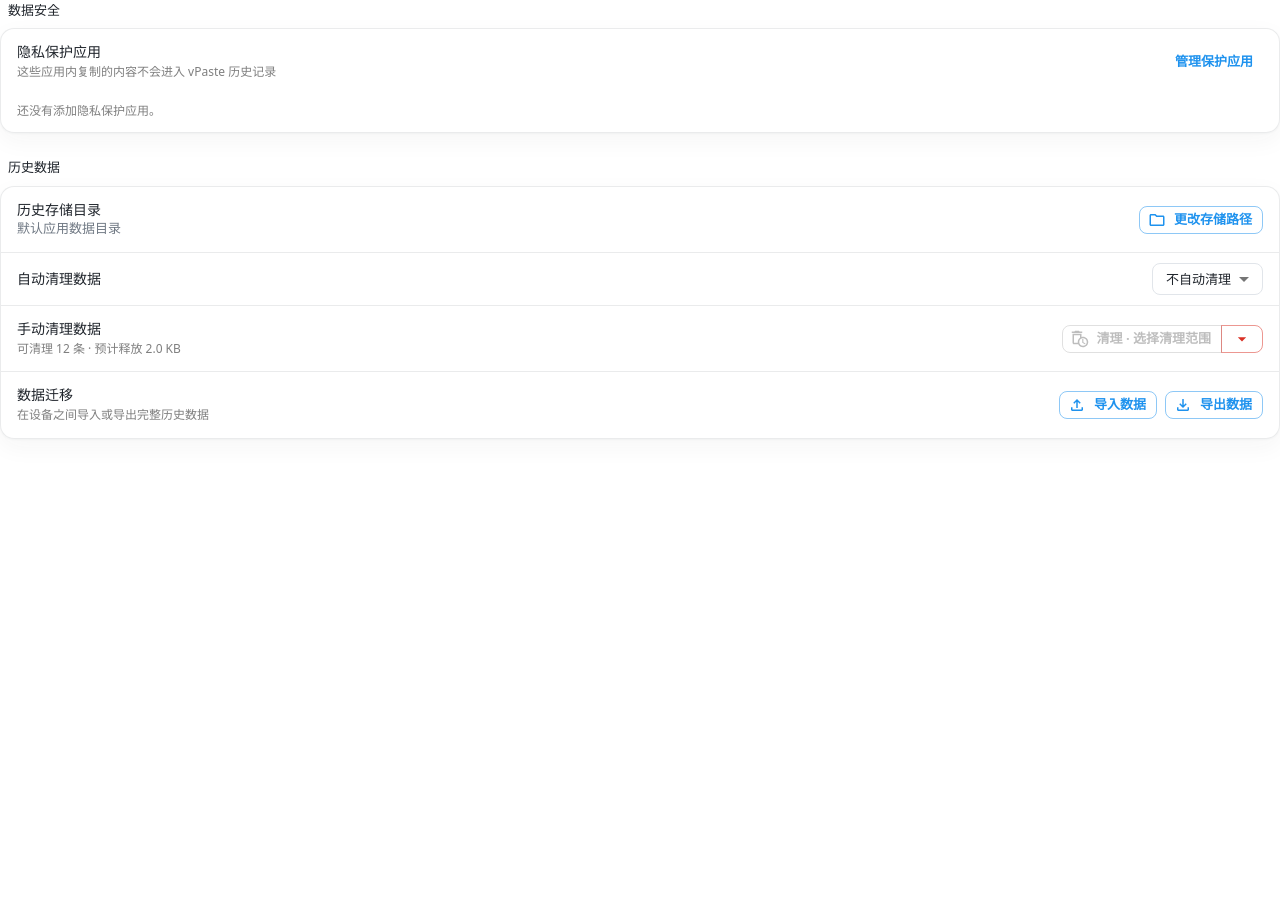
Data settings actions › shows cleanup scope, count, protection, and warning before deleting (Chinese)
Click the button named "选择清理范围". click: (1242,339)
box: [1221,325,1263,353]
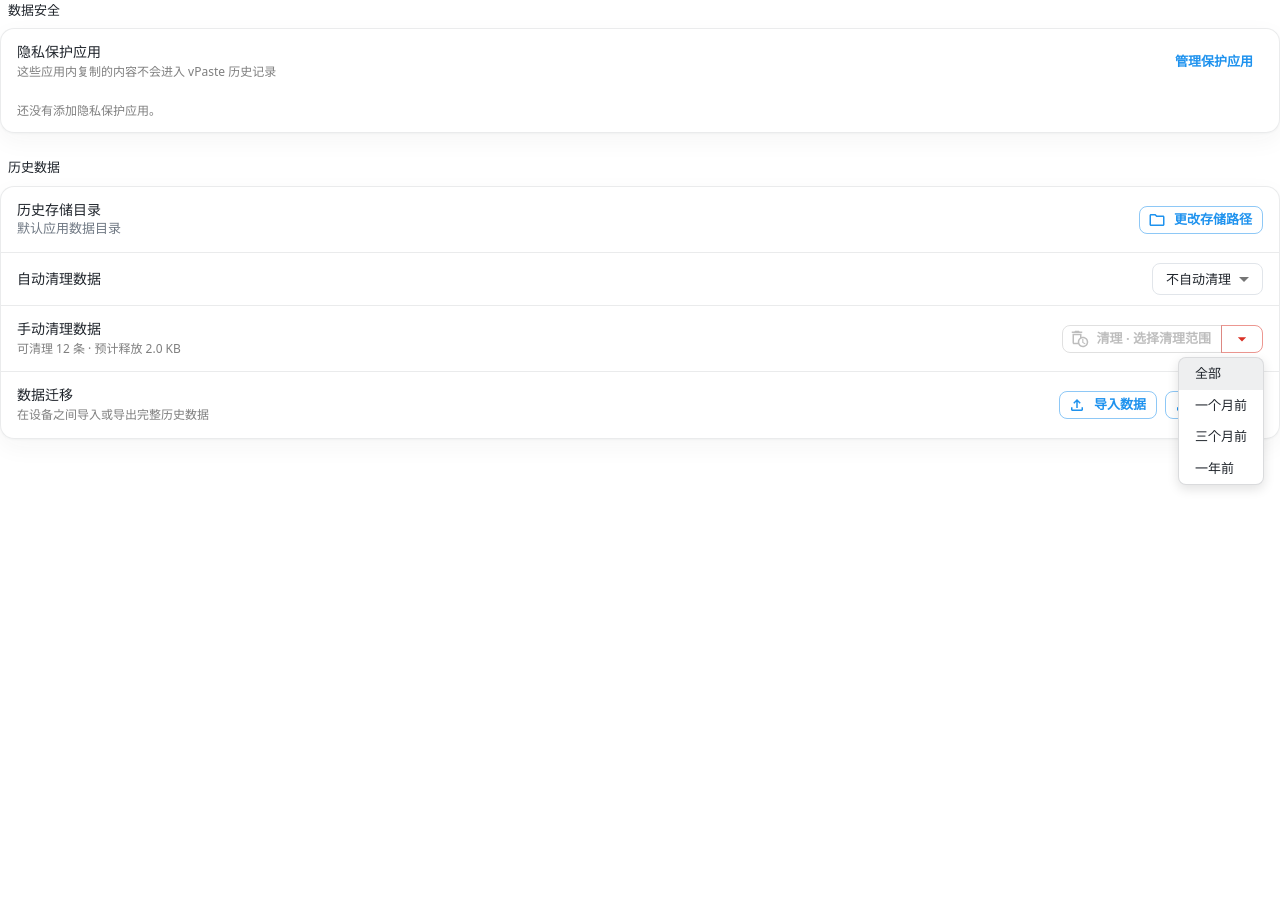
Click the menu item "全部". click: (1221,374)
box: [1179,358,1263,390]
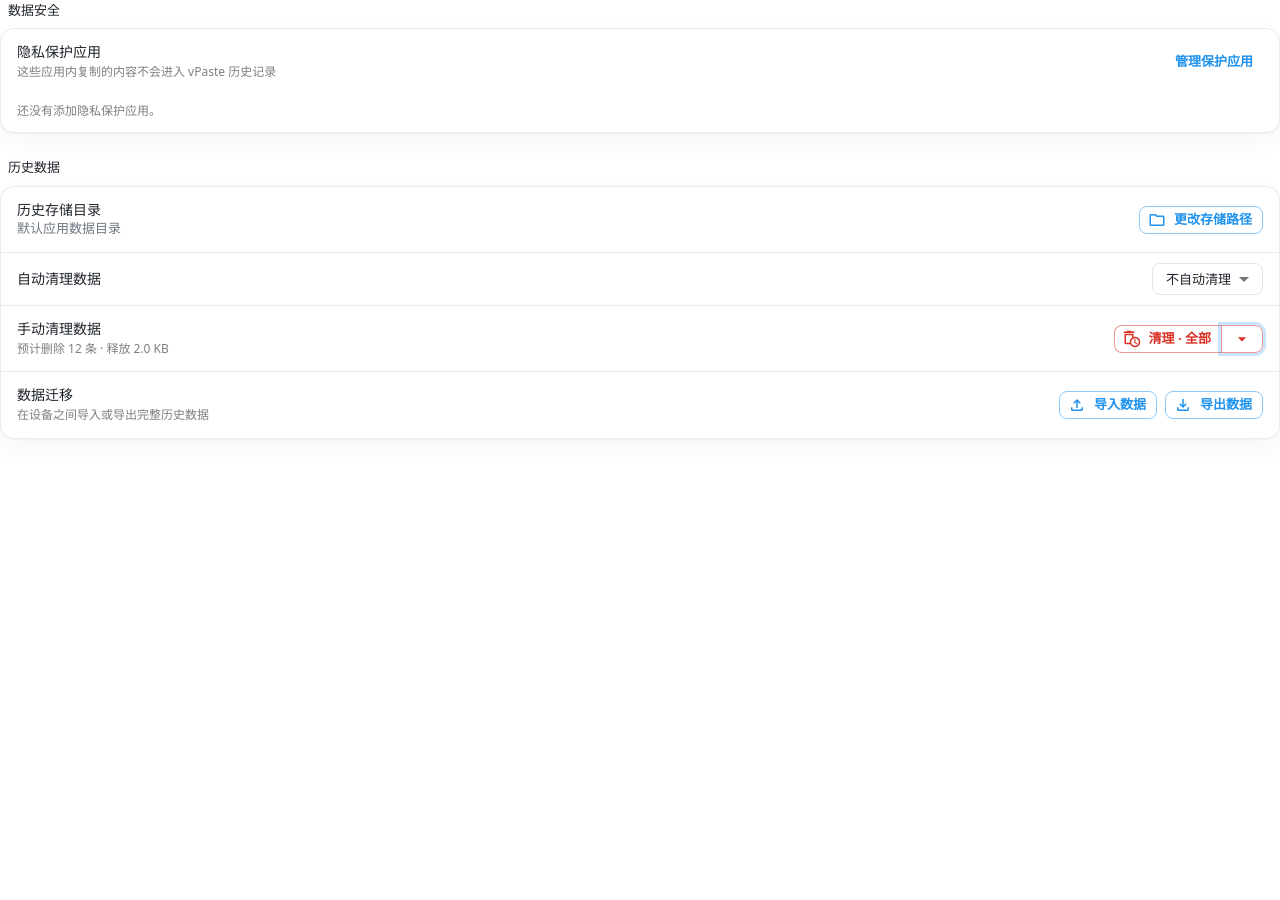
Click the button "清理 · 全部". click: (1168,339)
box: [1114,325,1222,353]
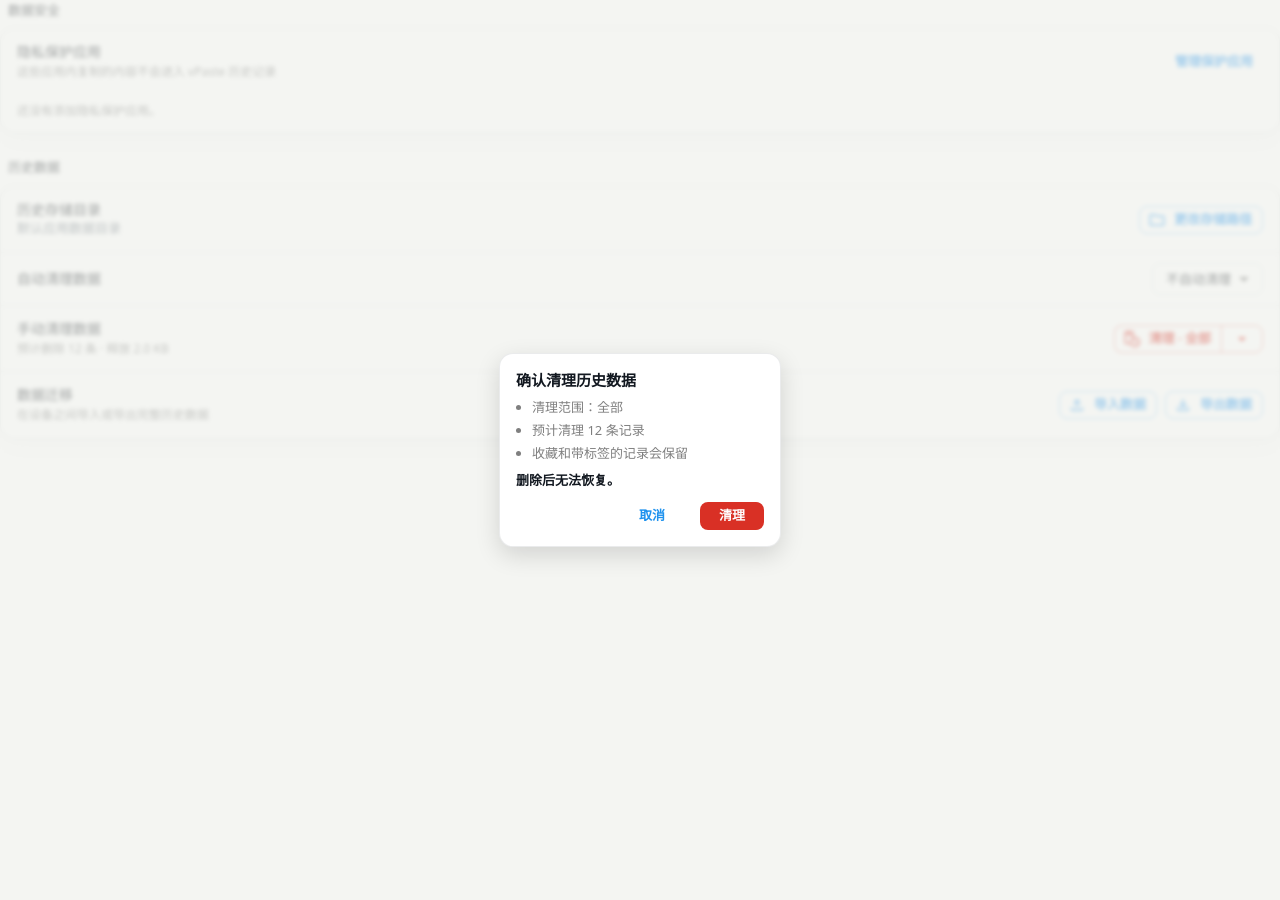
Expected: the dialog "确认清理历史数据" shows "收藏和带标签的记录会保留", [532,444,688,462]
